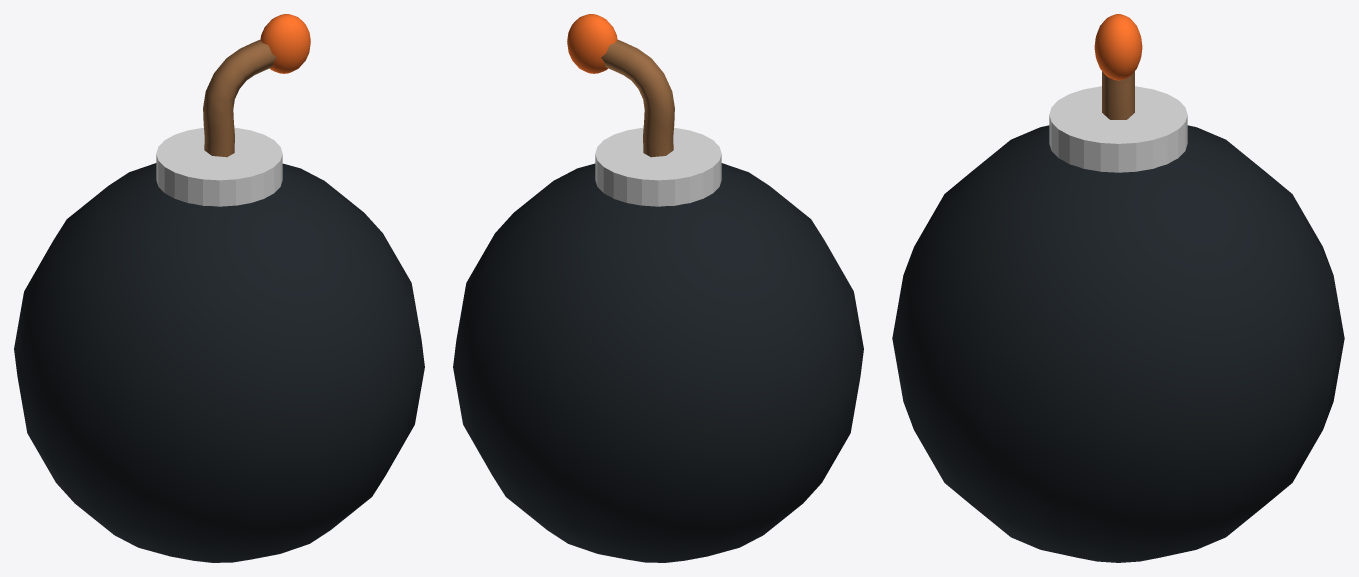
The model's file is terrain-bomb.glb.
The picture shows the model from 3 angles, left to right: view 1: azimuth 30°, elevation 25°; view 2: azimuth 150°, elevation 25°; view 3: azimuth 270°, elevation 25°; orthographic projection. The views are drawn at different scales.
Parts seen in each view (by area): view 1: terrain-bomb; view 2: terrain-bomb; view 3: terrain-bomb.
Part boxes in pixels (bbox=[...]): terrain-bomb: bbox=[14, 14, 424, 562]; terrain-bomb: bbox=[453, 14, 863, 562]; terrain-bomb: bbox=[892, 14, 1344, 562].
Bounding box in the file's own units: 0.49 × 0.672 × 0.49.
